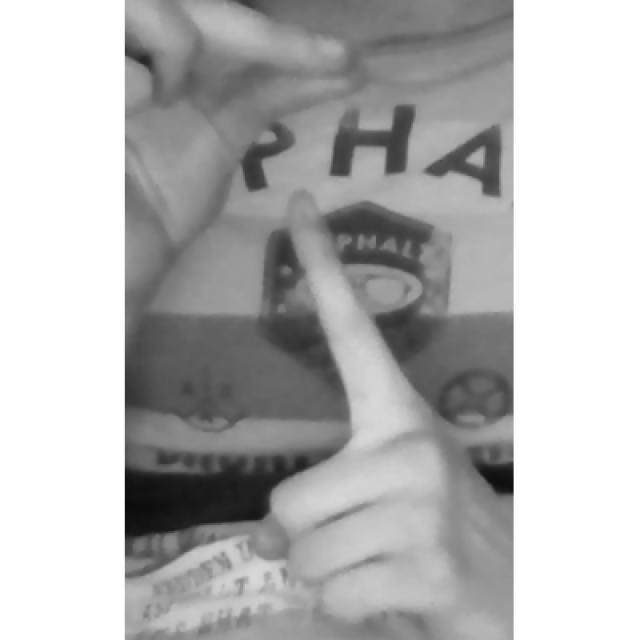I-: (123, 0, 512, 640)
